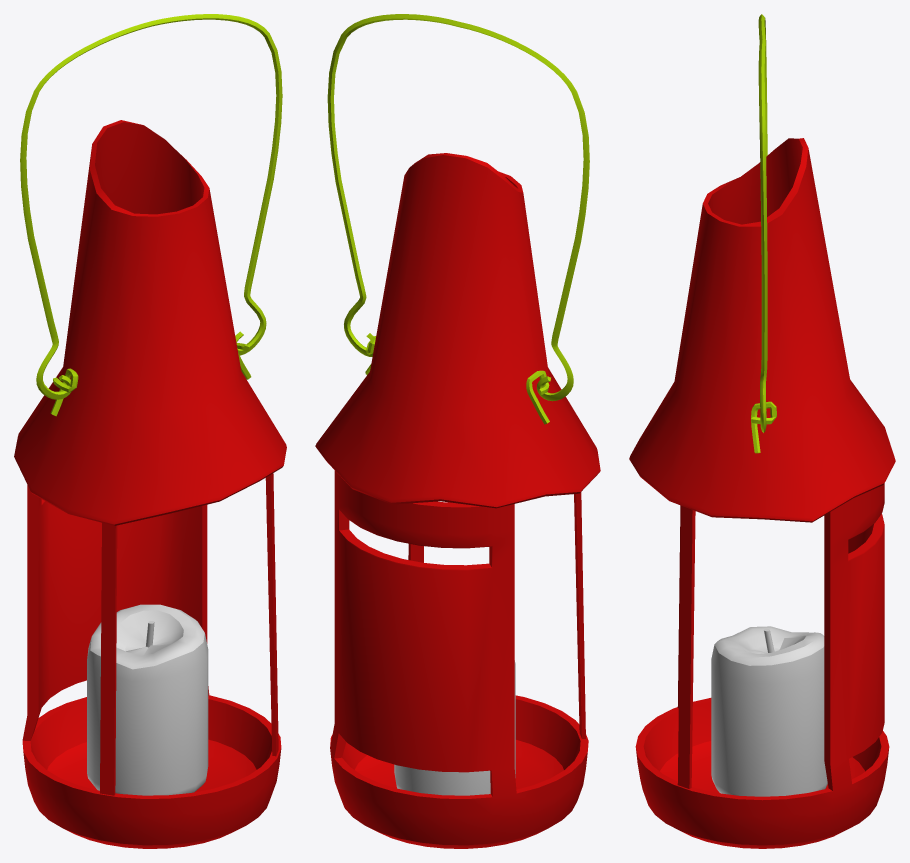
File: SM_lantern2.fbx
3 renders of one model, left to right at view 1: azimuth 30°, elevation 25°; view 2: azimuth 150°, elevation 25°; view 3: azimuth 270°, elevation 25°, orthographic. The views are drawn at different scales.
Parts seen in each view (by area): view 1: Cylinder.002; view 2: Cylinder.002; view 3: Cylinder.002.
Boxes of the visible parts, x1=… form: Cylinder.002: x1=14, y1=14, x2=286, y2=848; Cylinder.002: x1=315, y1=14, x2=600, y2=848; Cylinder.002: x1=629, y1=14, x2=895, y2=848.
Bounding box in the file's own units: 25.49 × 72.93 × 22.93.
